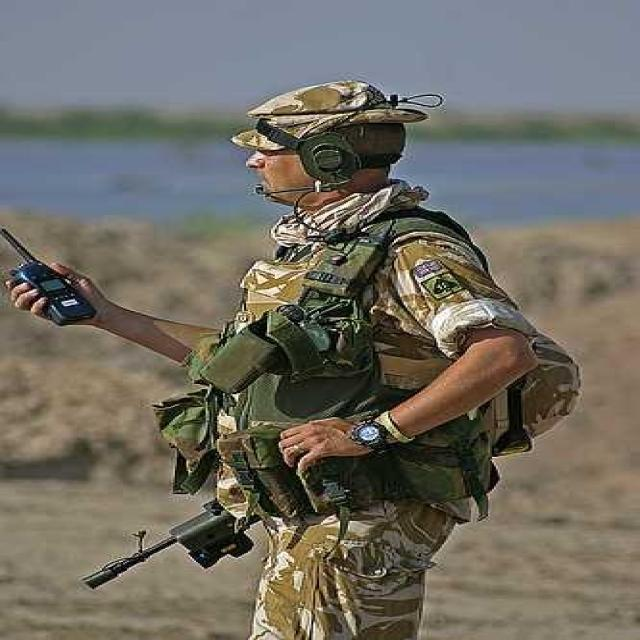Rifle: (74, 471, 284, 612)
